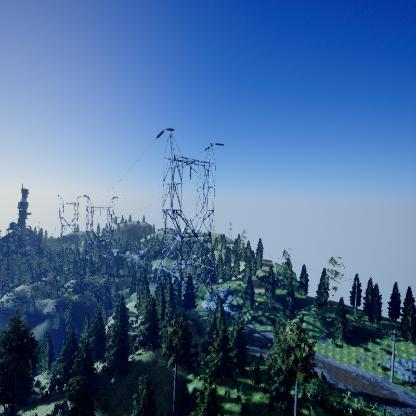tower: (152, 126, 228, 314), (82, 194, 120, 281), (55, 191, 83, 241)
